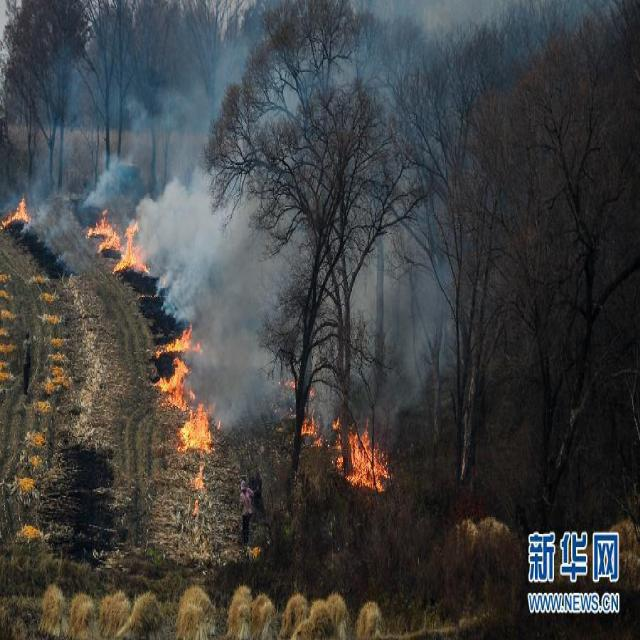fire: (302, 375, 391, 487), (156, 315, 215, 455), (86, 202, 143, 279), (6, 190, 32, 236)
